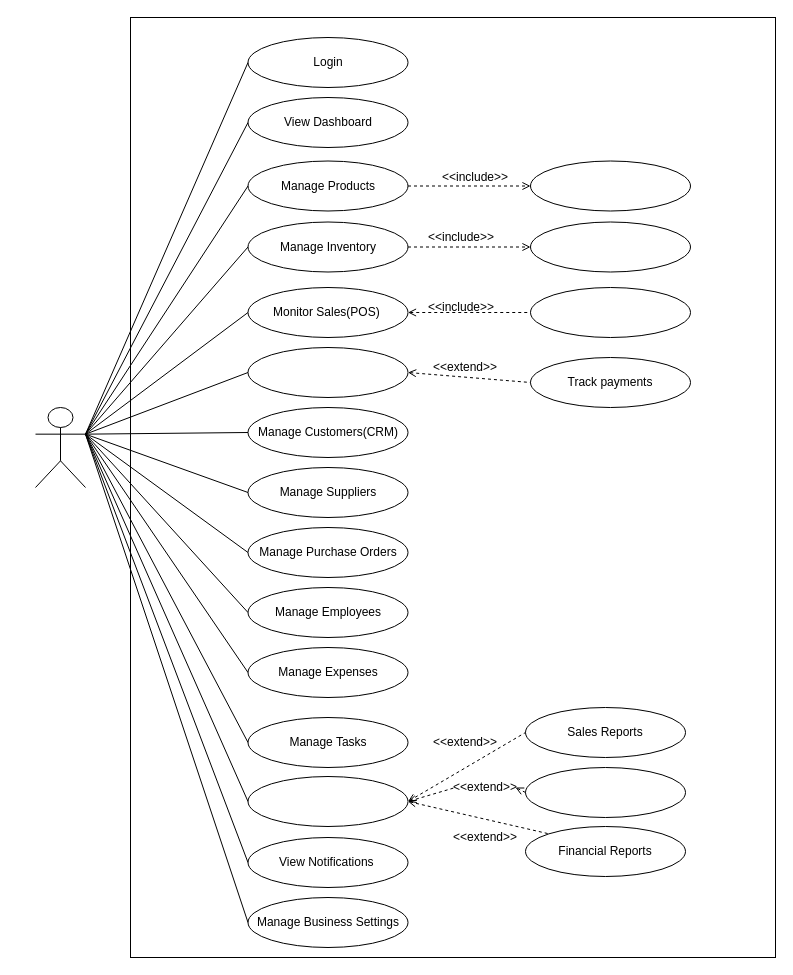
This 793x975 diagram has some shape labels left out. The centre of each missing label's shape, as x and y in pixels:
Business Owner: [60,447]
Generate reports and Analytics: [327,801]
Inventory Reports: [605,792]
Manage Invoices: [327,372]
Manage Product Categories: [610,185]
Manage Stock Adjustments: [610,246]
View Sales Summary: [610,312]
